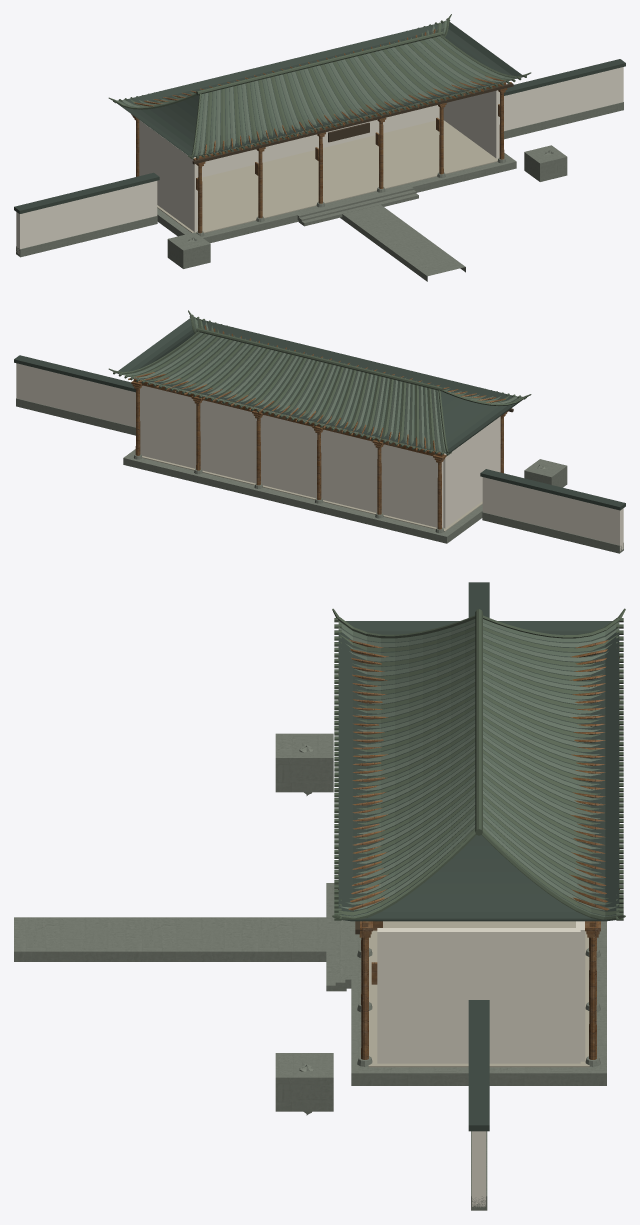
Rendered from public_models_places_daguanyuan_gate.glb.
The picture shows the model from 3 angles, top to bottom: view 1: azimuth 30°, elevation 25°; view 2: azimuth 150°, elevation 25°; view 3: azimuth 270°, elevation 25°; orthographic projection. The views are drawn at different scales.
Visible parts, largest first — view 1: daguanyuan_gate_plaster, daguanyuan_gate_paving, daguanyuan_gate_stone, daguanyuan_gate_roof, daguanyuan_gate_tiledark, daguanyuan_gate_tile, daguanyuan_gate_tilelight, daguanyuan_gate_wood, daguanyuan_gate_darkwood; view 2: daguanyuan_gate_plaster, daguanyuan_gate_roof, daguanyuan_gate_tiledark, daguanyuan_gate_stone, daguanyuan_gate_tile, daguanyuan_gate_tilelight, daguanyuan_gate_wood, daguanyuan_gate_paving; view 3: daguanyuan_gate_roof, daguanyuan_gate_stone, daguanyuan_gate_plaster, daguanyuan_gate_tiledark, daguanyuan_gate_tile, daguanyuan_gate_tilelight, daguanyuan_gate_wood, daguanyuan_gate_paving.
Boxes of the visible parts, bbox=[...] form: daguanyuan_gate_plaster: bbox=[16, 67, 623, 254]; daguanyuan_gate_paving: bbox=[157, 120, 498, 233]; daguanyuan_gate_stone: bbox=[16, 102, 623, 281]; daguanyuan_gate_roof: bbox=[14, 22, 625, 213]; daguanyuan_gate_tiledark: bbox=[108, 14, 531, 159]; daguanyuan_gate_tile: bbox=[117, 20, 523, 156]; daguanyuan_gate_tilelight: bbox=[122, 24, 511, 155]; daguanyuan_gate_wood: bbox=[131, 29, 511, 233]; daguanyuan_gate_darkwood: bbox=[192, 83, 513, 164]; daguanyuan_gate_plaster: bbox=[16, 363, 623, 551]; daguanyuan_gate_roof: bbox=[14, 318, 625, 510]; daguanyuan_gate_tiledark: bbox=[108, 310, 531, 455]; daguanyuan_gate_stone: bbox=[16, 398, 623, 553]; daguanyuan_gate_tile: bbox=[117, 316, 522, 452]; daguanyuan_gate_tilelight: bbox=[128, 321, 517, 452]; daguanyuan_gate_wood: bbox=[128, 325, 507, 529]; daguanyuan_gate_paving: bbox=[142, 456, 482, 531]; daguanyuan_gate_roof: bbox=[338, 582, 619, 1131]; daguanyuan_gate_stone: bbox=[14, 733, 606, 1210]; daguanyuan_gate_plaster: bbox=[377, 921, 585, 1207]; daguanyuan_gate_tiledark: bbox=[332, 608, 625, 920]; daguanyuan_gate_tile: bbox=[338, 619, 619, 917]; daguanyuan_gate_tilelight: bbox=[338, 623, 619, 910]; daguanyuan_gate_wood: bbox=[338, 639, 619, 1059]; daguanyuan_gate_paving: bbox=[368, 921, 589, 1067].
Bounding box in the file's own units: 44.2 × 8.81 × 21.06.
Materials: 9 (2 with a texture image).
